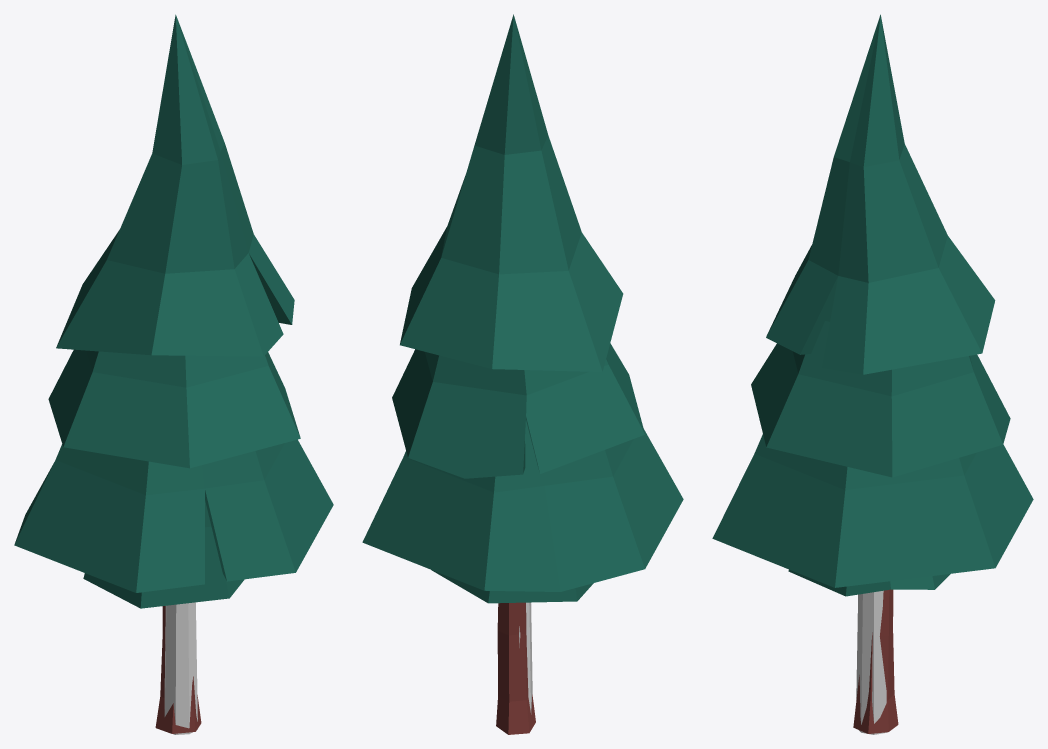
Rendered from floresta_tree_spruce_small.glb.
3 renders of one model, left to right at view 1: azimuth 30°, elevation 25°; view 2: azimuth 150°, elevation 25°; view 3: azimuth 270°, elevation 25°, orthographic.
Parts seen in each view (by area): view 1: Spruce small f, Colisao; view 2: Spruce small f, Colisao; view 3: Spruce small f, Colisao.
Boxes of the visible parts, <box> form: Spruce small f: <box>14,14,333,733</box>; Colisao: <box>164,602,197,734</box>; Spruce small f: <box>362,14,683,734</box>; Colisao: <box>519,602,532,714</box>; Spruce small f: <box>712,14,1033,733</box>; Colisao: <box>856,590,886,734</box>.
Size of the model in its own units: 4.36 by 10.52 by 4.3.
